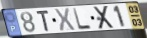1: (113, 5, 126, 29)
8: (19, 10, 37, 34)
L: (72, 7, 93, 31)
T: (35, 10, 51, 32)
X: (53, 8, 77, 33), (93, 5, 116, 31)
